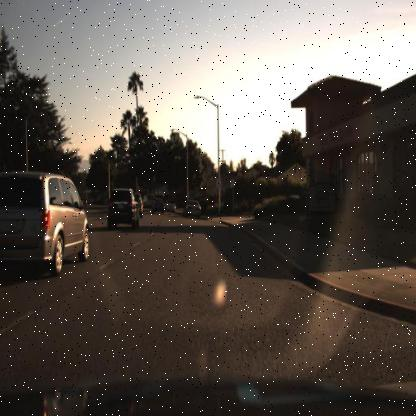car: (0, 160, 90, 286), (104, 180, 141, 234), (181, 194, 206, 223), (149, 192, 165, 217), (164, 195, 178, 215)
